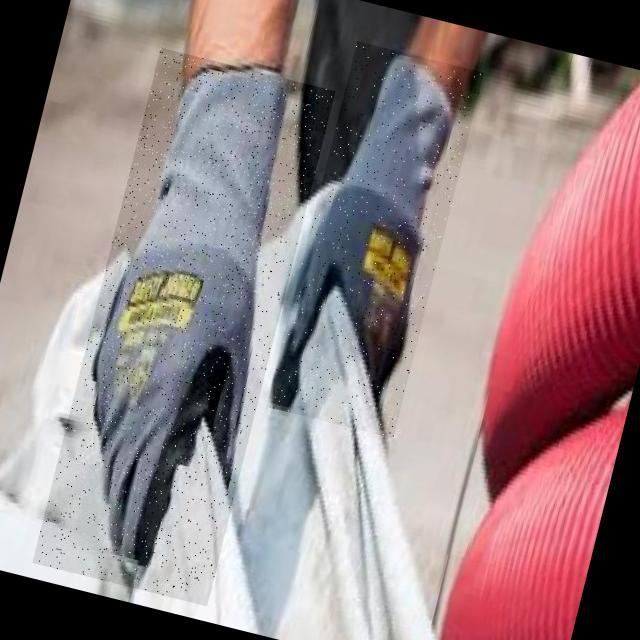Gloves: (32, 47, 335, 606), (266, 41, 484, 438)
